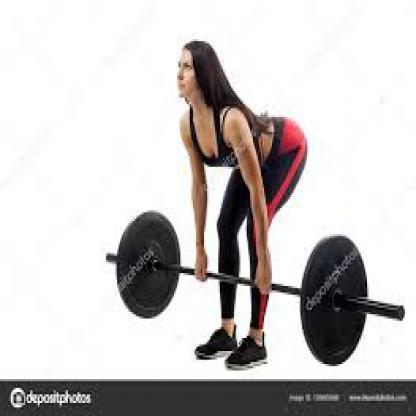Barbell: (396, 304, 409, 325)
